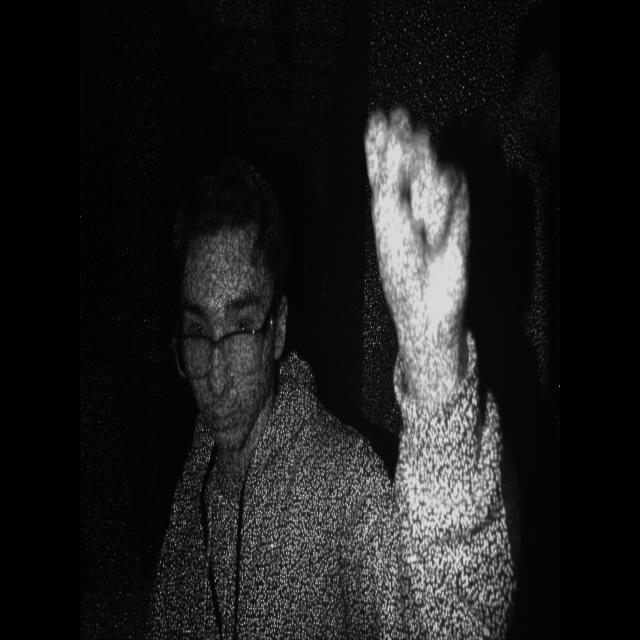S: (353, 86, 493, 406)
